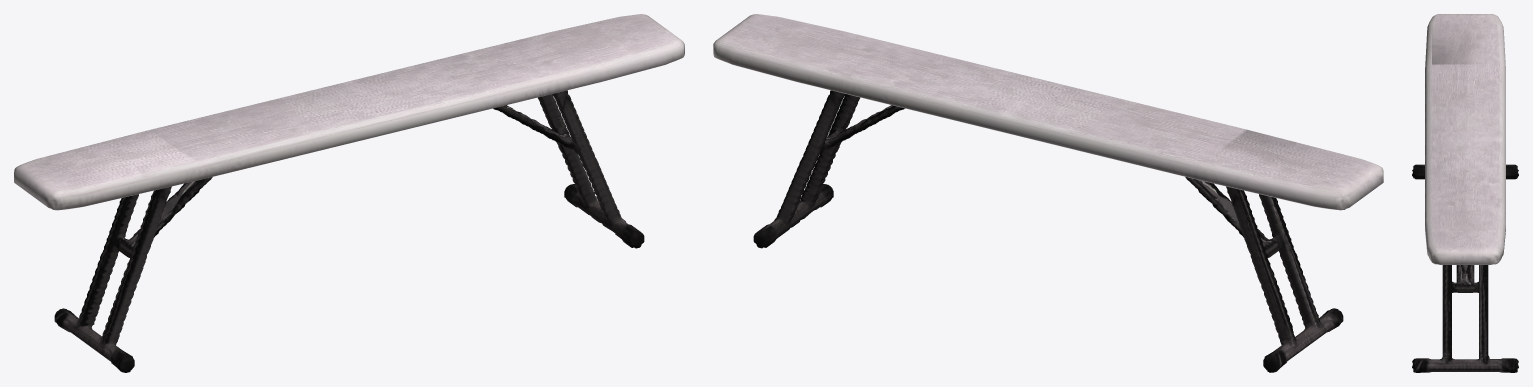
The model's file is Bench_Grey_Plastic__0403043243_texture.glb.
3 views of the same model, side by side, from view 1: azimuth 30°, elevation 25°; view 2: azimuth 150°, elevation 25°; view 3: azimuth 270°, elevation 25° (orthographic). The views are drawn at different scales.
Visible parts, largest first — view 1: Mesh_0.002; view 2: Mesh_0.002; view 3: Mesh_0.002.
Part boxes in pixels (x1,y1,x2,y2): Mesh_0.002: (14, 14, 684, 372); Mesh_0.002: (713, 14, 1383, 372); Mesh_0.002: (1412, 14, 1518, 372).
Size of the model in its own units: 1.65 by 0.4572 by 0.3082.
Materials: 1 (1 with a texture image).
